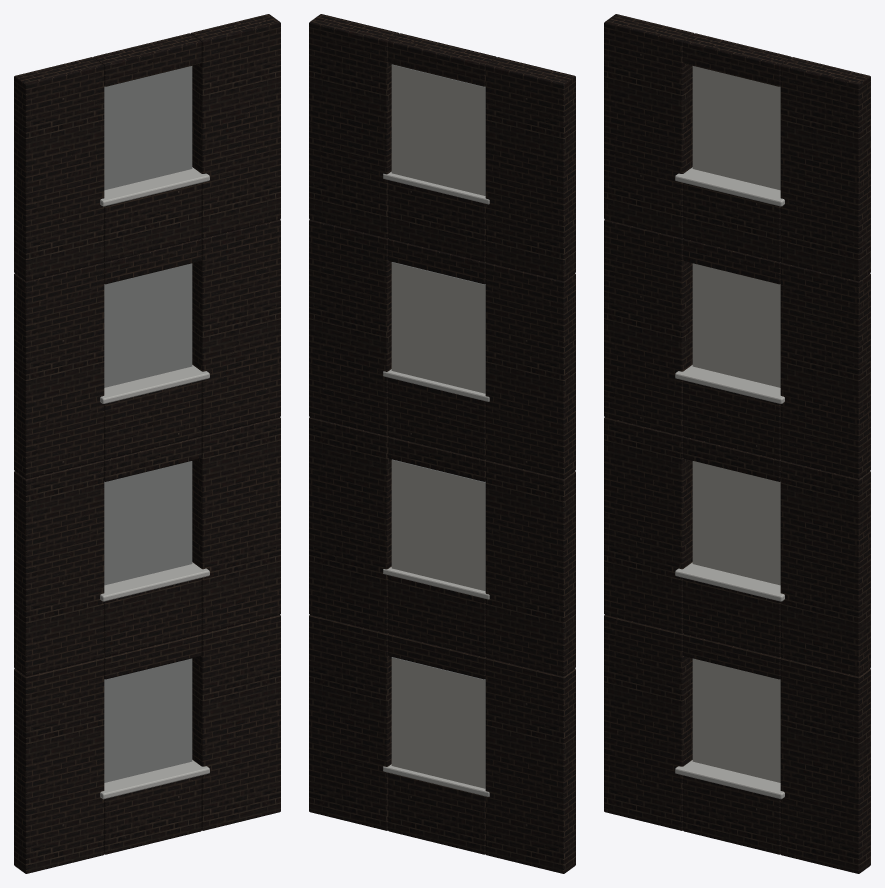
Rendered from facade-slot-fill.glb.
The picture shows the model from 3 angles, left to right: view 1: azimuth 30°, elevation 25°; view 2: azimuth 150°, elevation 25°; view 3: azimuth 330°, elevation 25°; orthographic projection.
Parts seen in each view (by area): view 1: facade_slot_fill; view 2: facade_slot_fill; view 3: facade_slot_fill.
Boxes of the visible parts, left/top/right/bottom form: facade_slot_fill: left=14, top=14, right=280, bottom=873; facade_slot_fill: left=309, top=14, right=575, bottom=873; facade_slot_fill: left=604, top=14, right=870, bottom=873.
Size of the model in its own units: 4.2 by 12.4 by 0.4499.
Materials: 3 (1 with a texture image).
